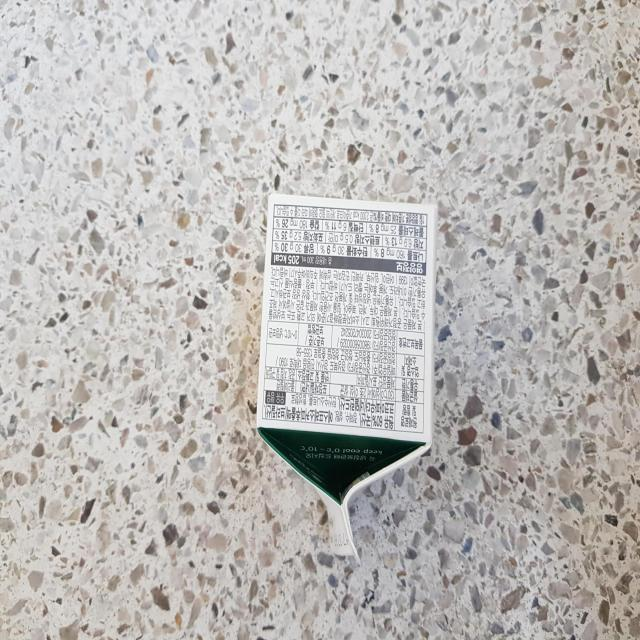paperpack: (257, 193, 437, 563)
